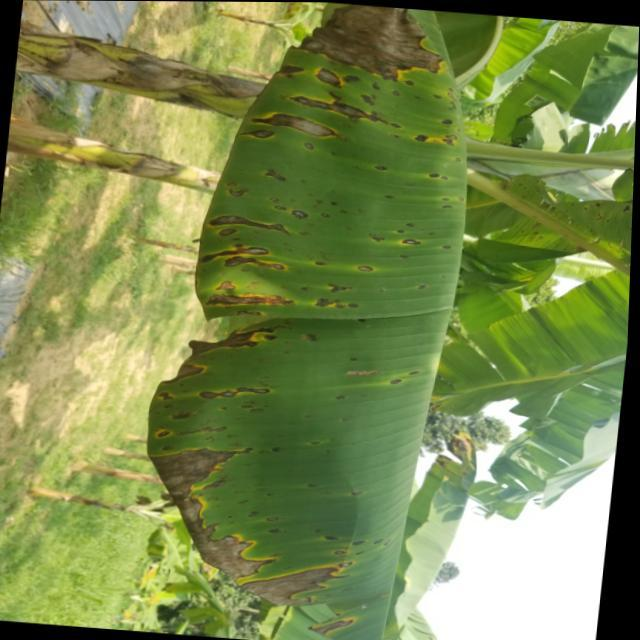Early_rust: (140, 3, 474, 638)
